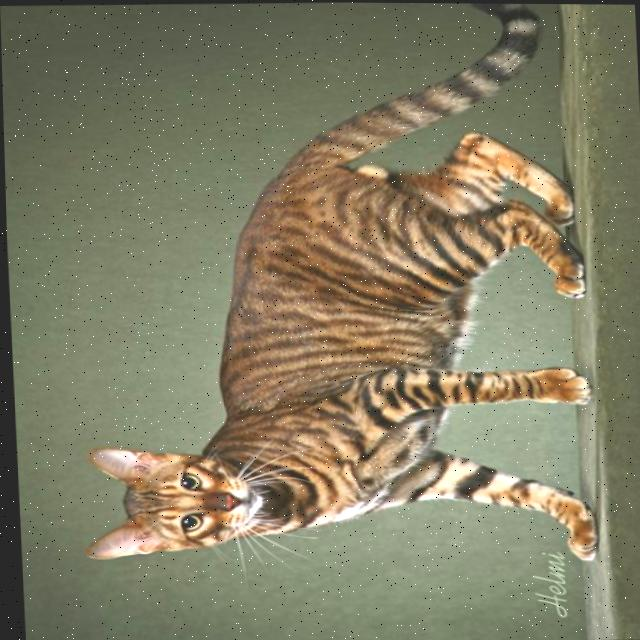Toyger: (51, 0, 606, 570)
